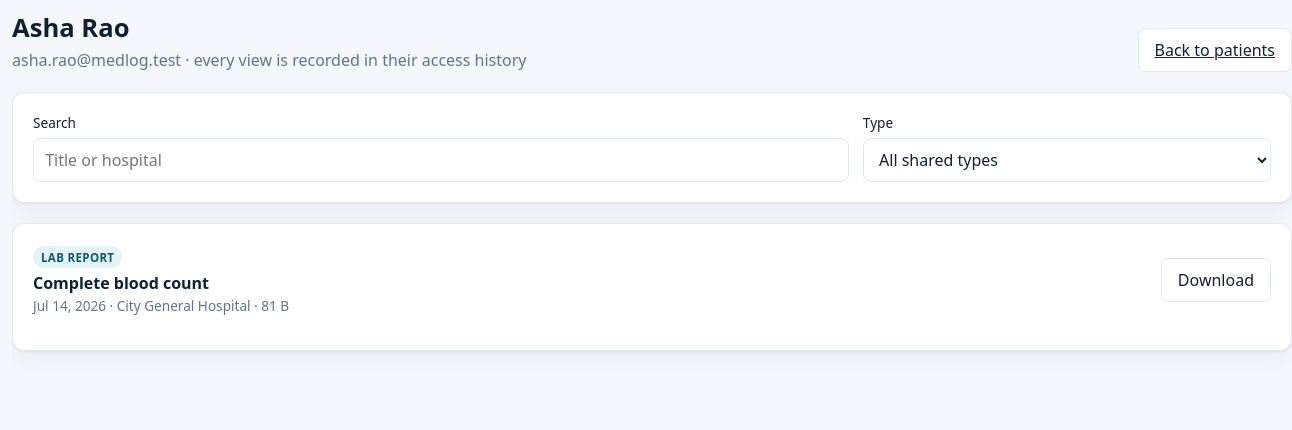
SharedRecordsPage › reports a failed download without losing the list
Expected: the heading "Complete blood count" is shown, [33,272,209,294]
Click the button "Download" at [1216, 280], box [1161,258,1271,302]
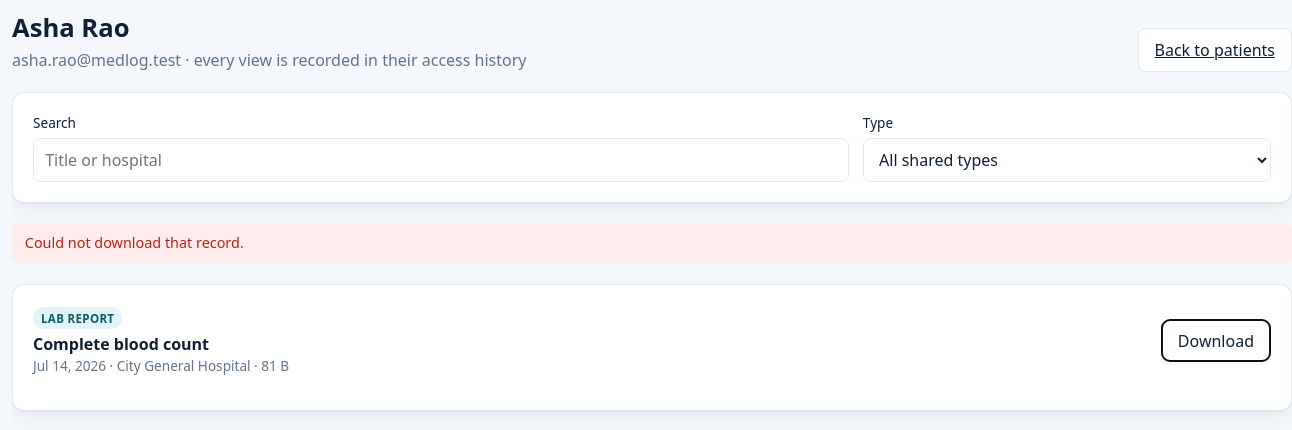
Expected: the heading "Complete blood count" is shown, [33,333,209,355]
Expected: the message reads "Could not download that record.", [25,233,244,252]
